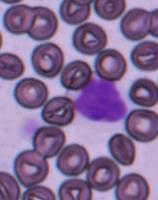M: (73, 78, 128, 127)
